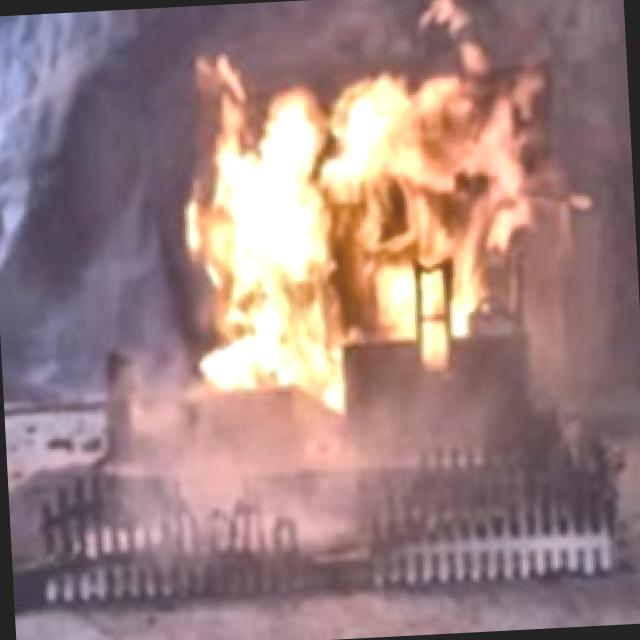fire: (165, 0, 550, 411)
